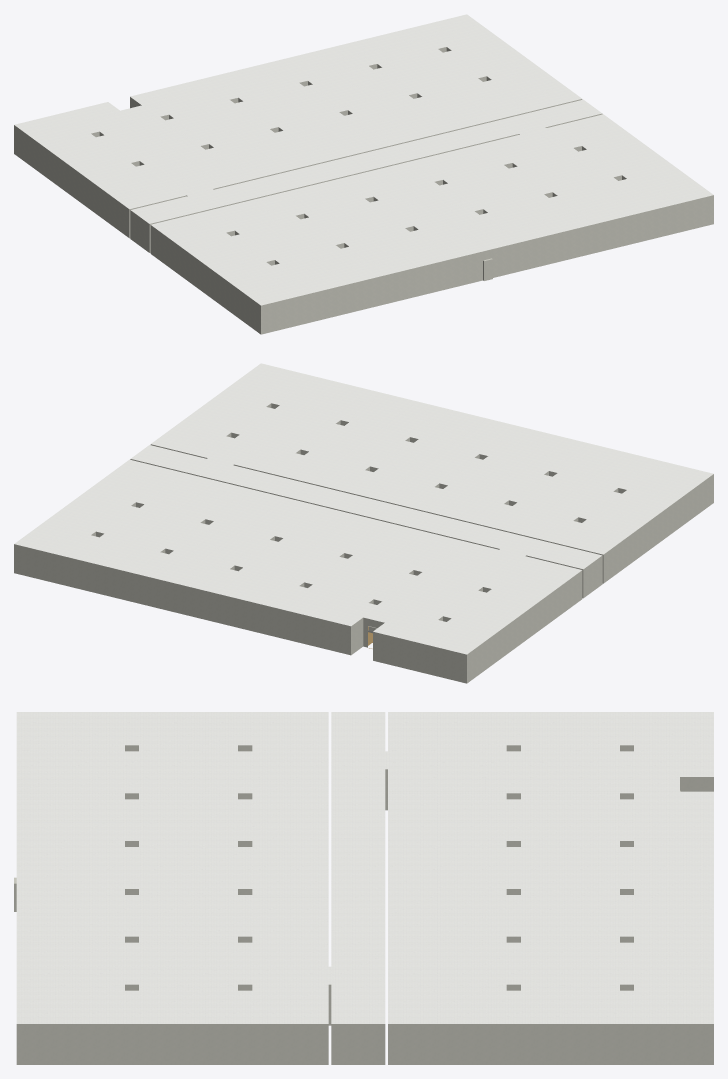
Rendered from gbi_L3_3.glb.
3 renders of one model, top to bottom at view 1: azimuth 30°, elevation 25°; view 2: azimuth 150°, elevation 25°; view 3: azimuth 270°, elevation 25°, orthographic. The views are drawn at different scales.
Visible parts, largest first — view 1: M_D_ceil_L3, M_D_wall_L3; view 2: M_D_ceil_L3, M_D_wall_L3; view 3: M_D_ceil_L3, M_D_wall_L3.
Part boxes in pixels (x1,y1,x2,y2): M_D_ceil_L3: (14,14,713,305); M_D_wall_L3: (14,47,713,334); M_D_ceil_L3: (14,363,713,654); M_D_wall_L3: (14,403,713,683); M_D_ceil_L3: (16,712,713,1023); M_D_wall_L3: (14,745,713,1064).
Bounding box in the file's own units: 52.2 × 3.2 × 49.5.
14 materials, 5 textured.
